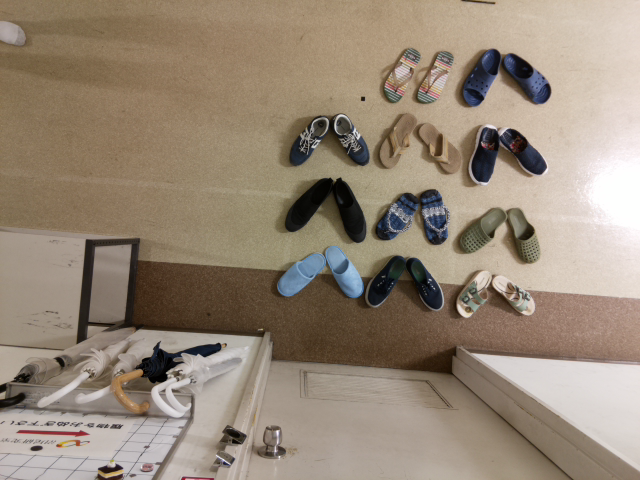Copy of Copy of Copy of Copy of Copy of Copy of Copy of sandal: (382, 47, 421, 102)
Copy of Copy of Copy of Copy of Copy of Copy of Copy of shoes: (497, 127, 548, 176)
Copy of Copy of Copy of Copy of Copy of Copy of sandal: (416, 50, 453, 103)
Copy of Copy of Copy of Copy of Copy of Copy of shoes: (468, 124, 500, 185)
Copy of Copy of Copy of Copy of Copy of sandal: (417, 122, 461, 173)
Copy of Copy of Copy of Copy of Copy of shoes: (405, 256, 444, 311)
Copy of Copy of Copy of Copy of Copy of slipper: (276, 251, 326, 297)
Copy of Copy of Copy of Copy of sandal: (379, 112, 417, 169)
Copy of Copy of Copy of Copy of shoes: (364, 254, 406, 308)
Copy of Copy of Copy of Copy of slipper: (324, 245, 363, 297)
Copy of Copy of Copy of sandal: (375, 192, 419, 241)
Copy of Copy of Copy of shoes: (284, 177, 332, 232)
Copy of Copy of Copy of slipper: (458, 206, 506, 253)
Copy of Copy of sandal: (420, 188, 451, 245)
Copy of Copy of shoes: (333, 177, 366, 241)
Copy of Copy of slipper: (506, 206, 540, 263)
Copy of sandal: (491, 274, 534, 316)
Copy of shoes: (330, 113, 370, 165)
Copy of slipper: (502, 52, 552, 104)
sandal: (455, 270, 492, 318)
shoes: (288, 114, 329, 166)
slipper: (462, 48, 501, 106)
